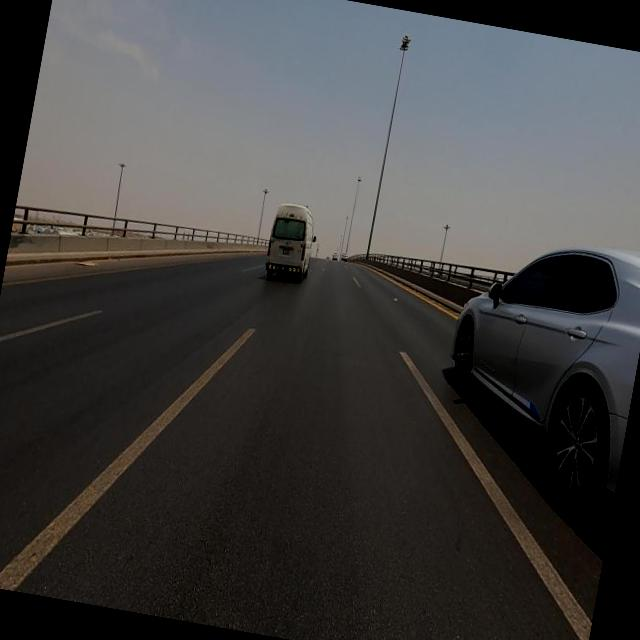debris: (48, 220, 130, 299)
